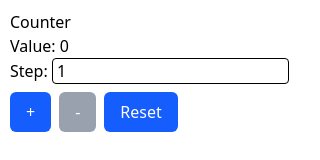
Test case: CounterView › reset button restores initial state
The image size is (320, 160).
Click the button "+".
click(31, 112)  # box [10, 92, 51, 132]
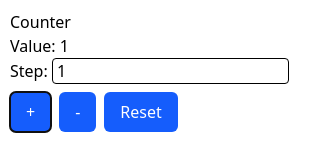
Click the button "Reset".
click(141, 112)  # box [104, 92, 178, 132]
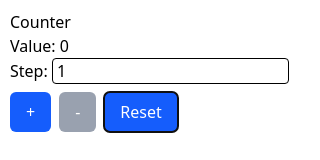
Now the text "Value: 0" is shown, box [10, 35, 69, 57]
